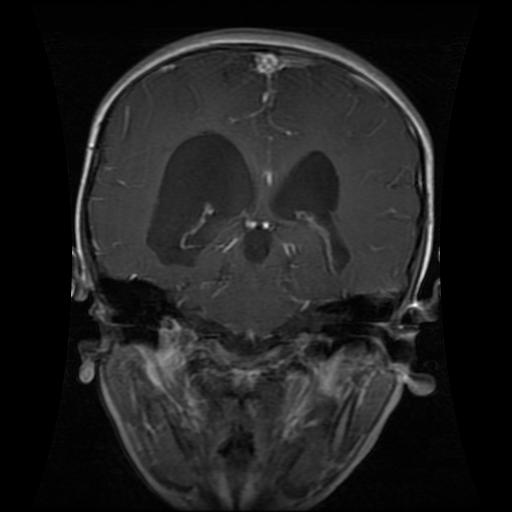Gliomia_tumour: (144, 127, 260, 268)
